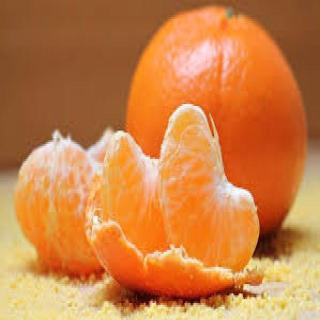orange: (123, 0, 315, 247), (154, 96, 266, 290), (98, 124, 194, 294)
